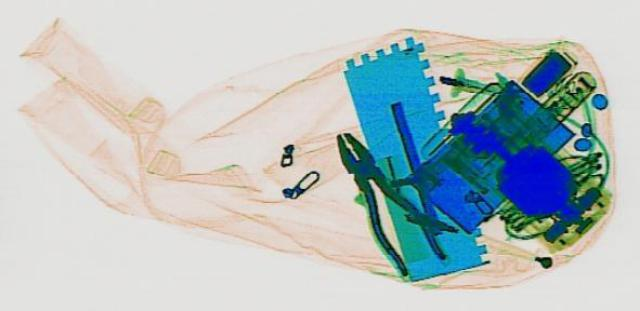Pliers: (310, 129, 458, 274)
